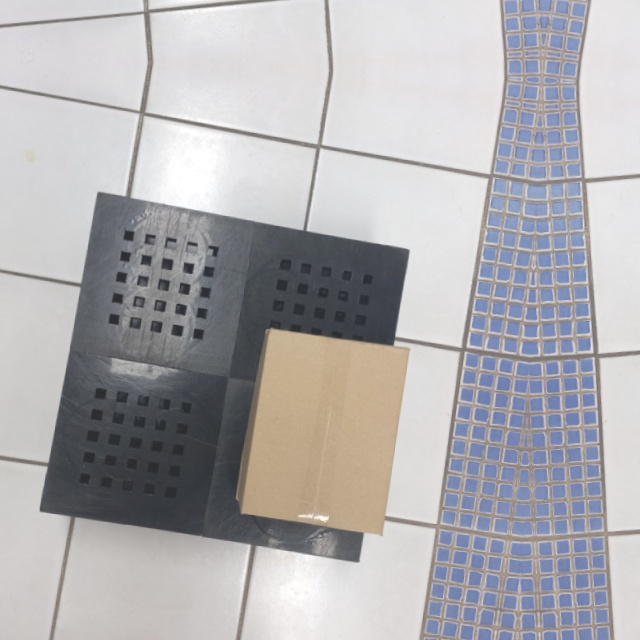box: (236, 323, 412, 540)
pallet: (31, 186, 416, 570)
